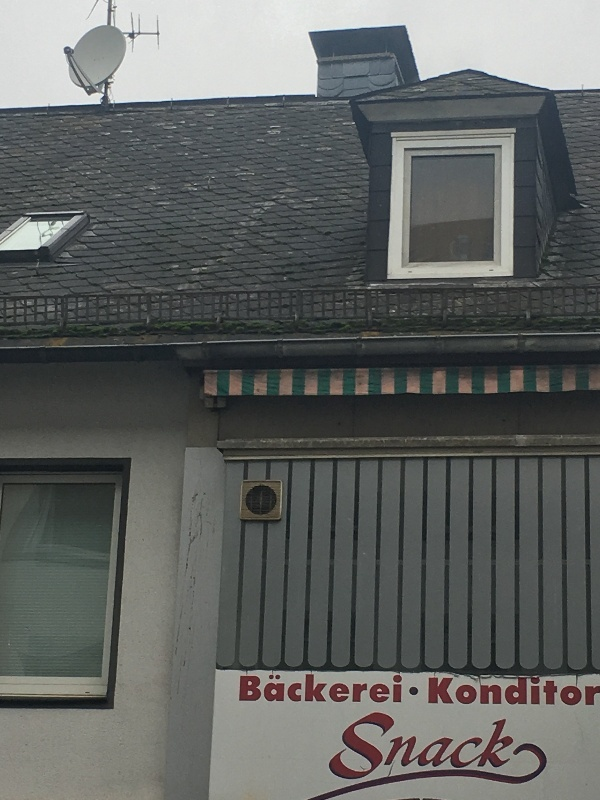text: (337, 709, 352, 786), (353, 709, 368, 786), (369, 709, 384, 786), (385, 709, 400, 786), (401, 709, 416, 786), (417, 709, 432, 786), (433, 709, 448, 786), (449, 709, 464, 786), (465, 709, 480, 786), (481, 709, 496, 786), (497, 709, 512, 786), (433, 675, 448, 712), (449, 675, 464, 712), (465, 675, 480, 712), (481, 675, 496, 712), (497, 675, 512, 712), (513, 675, 528, 712), (529, 675, 544, 712), (545, 675, 560, 712), (561, 675, 576, 712), (577, 675, 592, 712), (241, 670, 256, 706), (257, 670, 272, 706), (273, 670, 288, 706), (289, 670, 304, 706), (305, 670, 320, 706), (321, 670, 336, 706), (337, 670, 352, 706), (353, 670, 368, 706), (369, 670, 384, 706), (385, 670, 400, 706), (401, 670, 416, 706), (330, 709, 336, 786), (513, 709, 518, 786), (593, 675, 600, 712), (428, 675, 432, 712), (417, 670, 420, 706)
